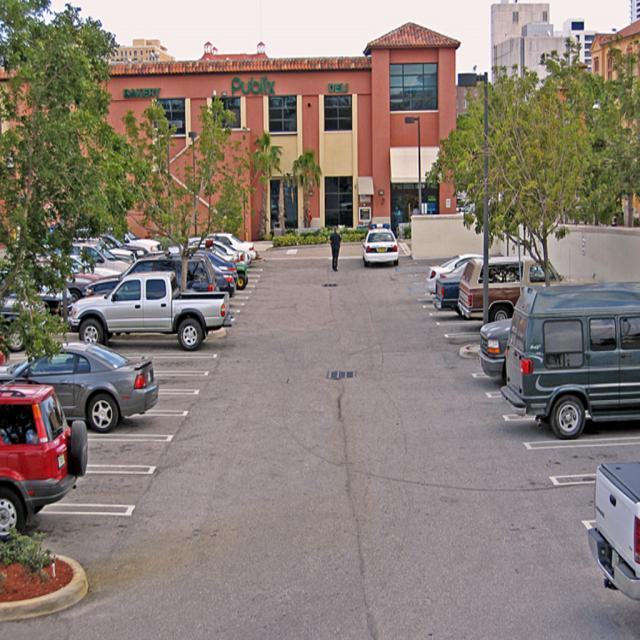bicycle: (56, 252, 236, 352)
